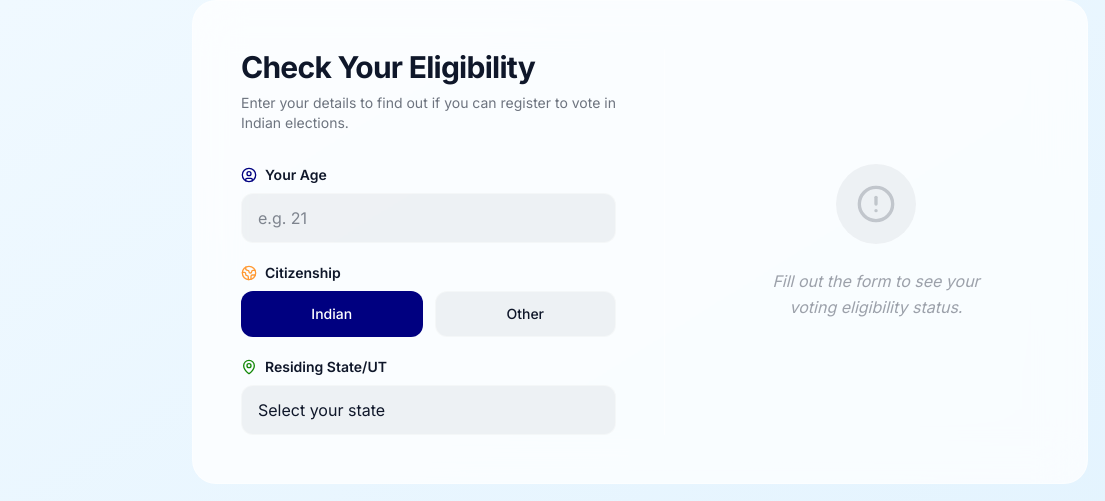
Test: EligibilityChecker Component › Eligibility Logic › shows NOT ELIGIBLE for a non-Indian citizen
Type "25" into the number field with placeholder "e.g. 21" at point(428, 218), box top-left (241, 193), bottom-right (616, 243)
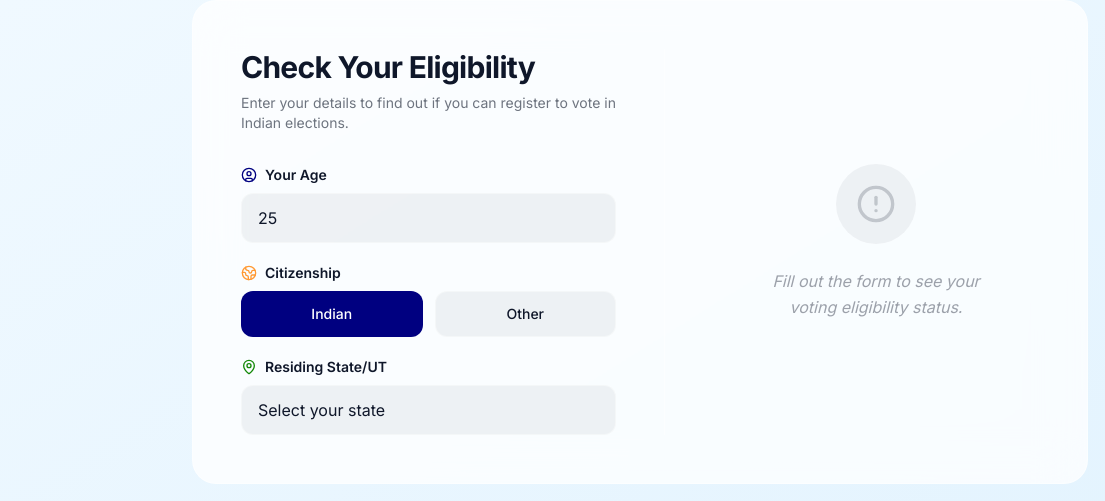
Click the button "Other" at point(525, 314), box top-left (434, 291), bottom-right (616, 337)
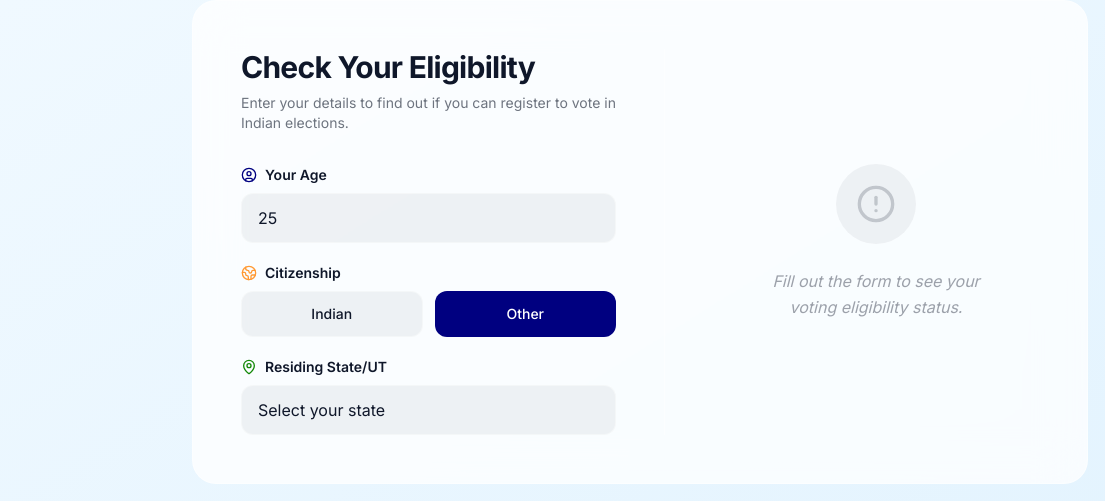
Select "Delhi" in the dropdown at point(428, 410), box top-left (241, 385), bottom-right (616, 435)
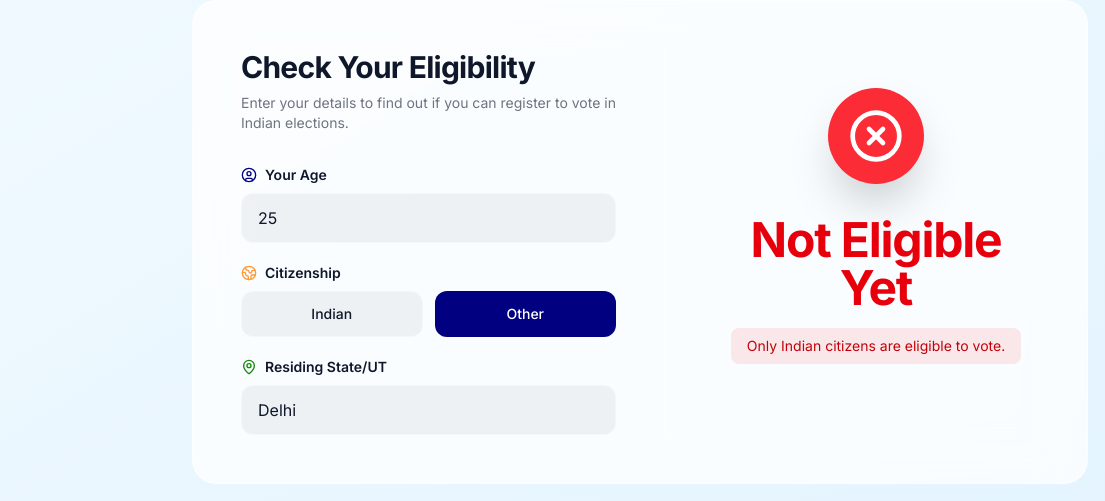
Expected: the heading "Not Eligible Yet" is shown, top-left (750, 210), bottom-right (1001, 317)
Expected: the text "Only Indian citizens are eligible to vote." is shown, top-left (731, 328), bottom-right (1021, 364)
